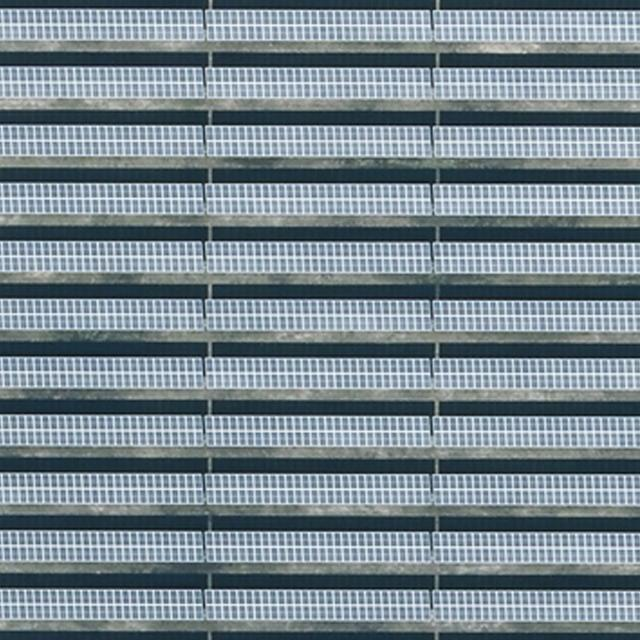panel: (196, 534, 427, 572), (204, 586, 434, 624), (202, 122, 432, 160), (200, 182, 431, 219), (204, 472, 433, 508), (206, 412, 434, 448), (204, 355, 432, 391), (204, 296, 432, 332), (206, 240, 434, 276), (204, 9, 434, 44), (204, 67, 433, 102), (0, 238, 205, 276), (430, 530, 639, 567), (431, 7, 640, 44), (431, 65, 639, 102), (430, 414, 639, 450), (431, 298, 639, 334), (1, 181, 208, 217), (1, 470, 207, 506), (2, 529, 207, 565), (0, 354, 205, 390), (0, 296, 205, 332), (0, 64, 205, 100), (0, 6, 205, 42), (430, 474, 639, 509), (429, 360, 637, 395), (1, 585, 206, 620), (430, 184, 639, 218), (430, 124, 639, 158), (432, 588, 640, 622), (432, 241, 640, 275), (0, 412, 206, 446), (0, 124, 205, 158)
